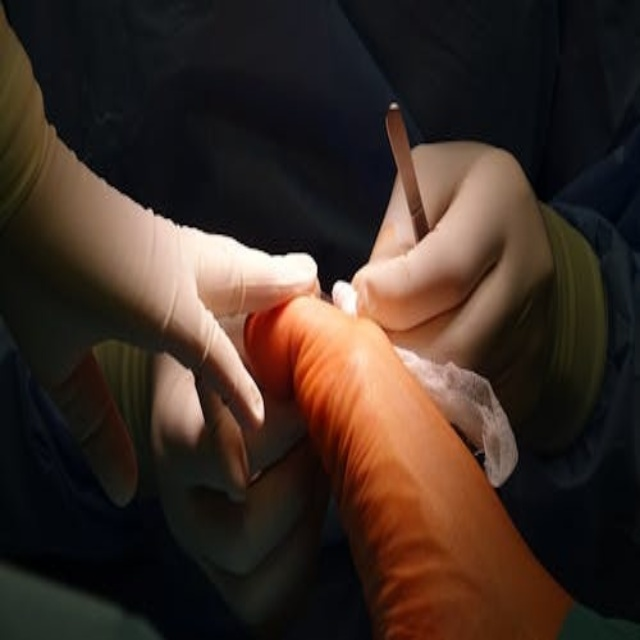Guantes: (5, 16, 324, 524), (351, 116, 602, 485)
